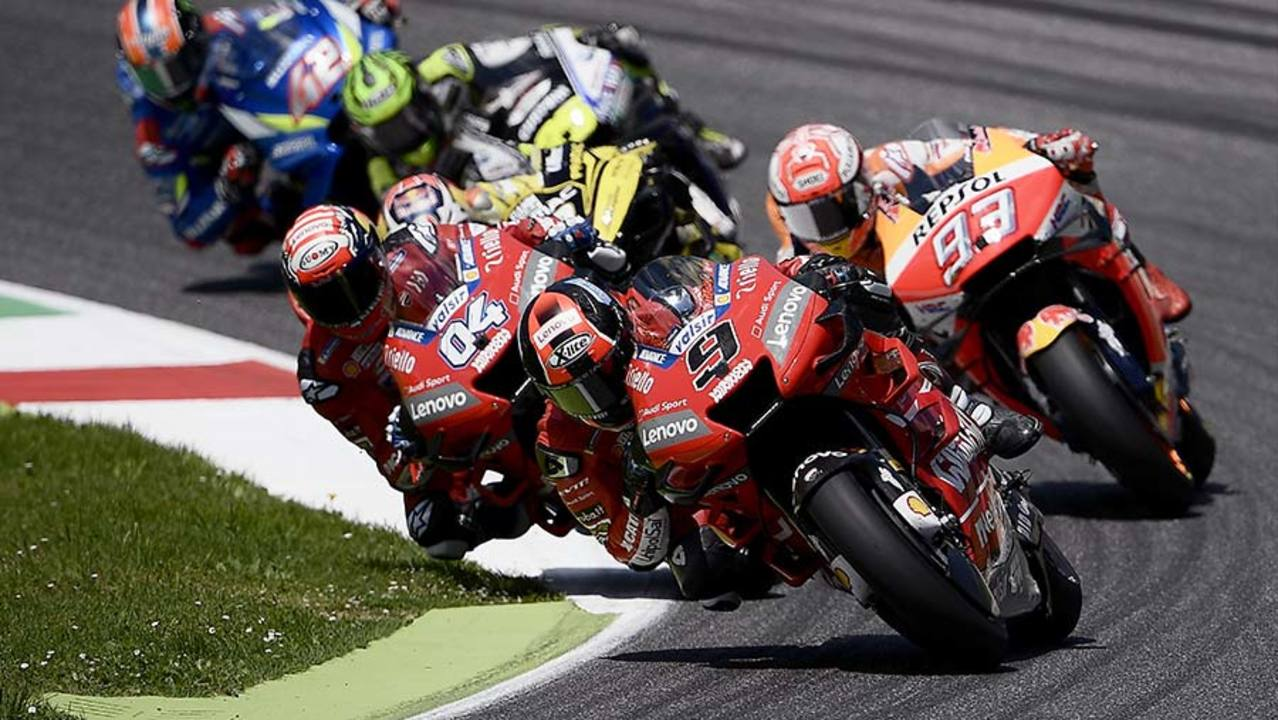helmet: (747, 118, 880, 261), (266, 200, 394, 344), (338, 46, 437, 167), (103, 5, 218, 109)
